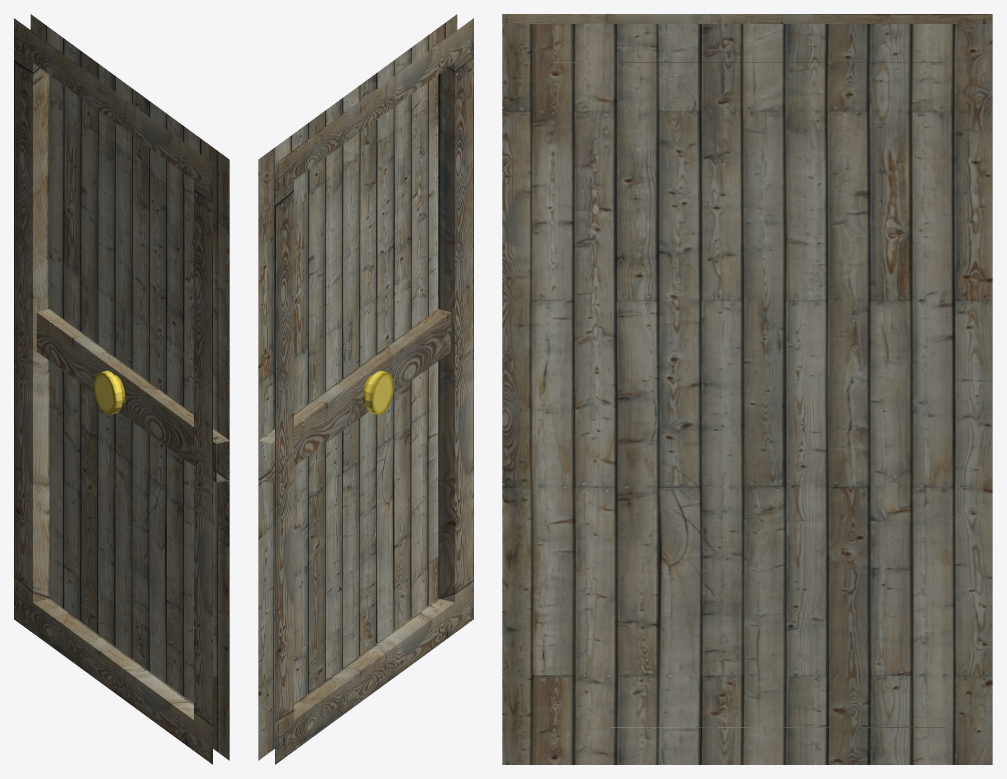
Rendered from DoorE.fbx.
3 views of the same model, side by side, from view 1: azimuth 30°, elevation 25°; view 2: azimuth 150°, elevation 25°; view 3: azimuth 270°, elevation 25° (orthographic). The views are drawn at different scales.
Visible parts, largest first — view 1: DoorE; view 2: DoorE; view 3: DoorE.
Part boxes in pixels (x1,y1,x2,y2): DoorE: [14, 14, 229, 764]; DoorE: [258, 14, 473, 764]; DoorE: [502, 14, 992, 764].
Bounding box in the file's own units: 9.12 × 120 × 200.
